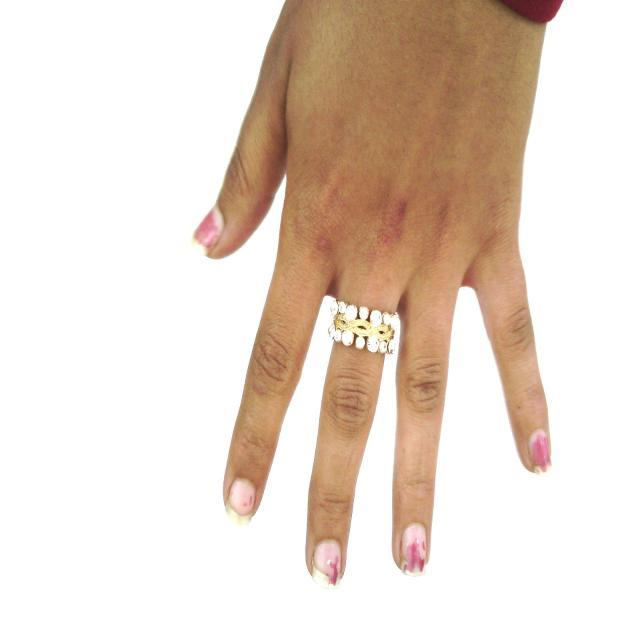Fingernail: (312, 540, 341, 588), (401, 524, 426, 575), (194, 208, 222, 252), (228, 480, 255, 523), (530, 430, 550, 473)
